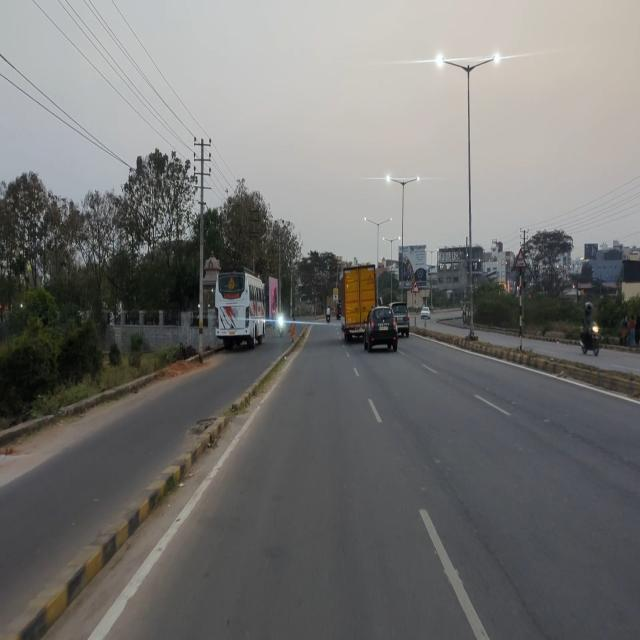bien_cam: (514, 246, 527, 270), (411, 279, 419, 294)
